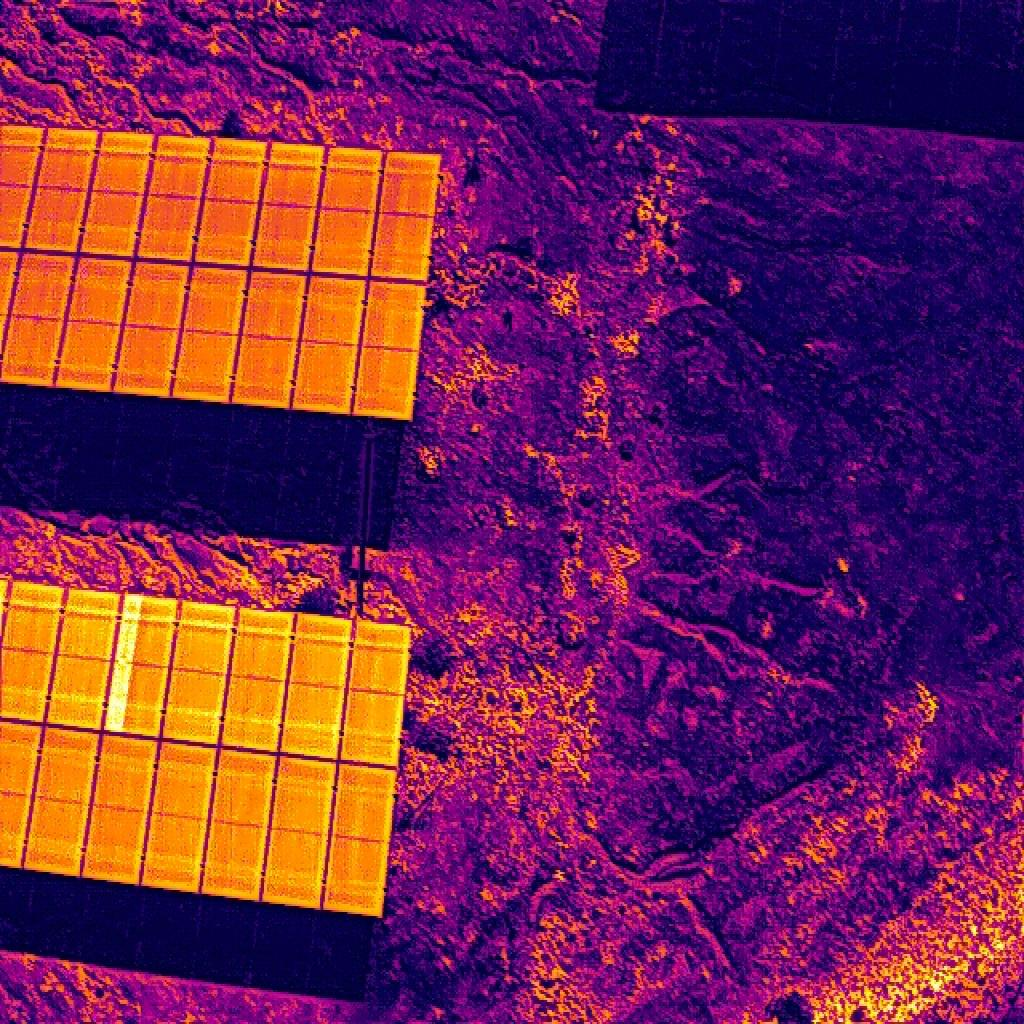panel: (261, 755, 339, 911), (103, 591, 180, 740), (339, 620, 412, 770), (310, 146, 384, 276)
